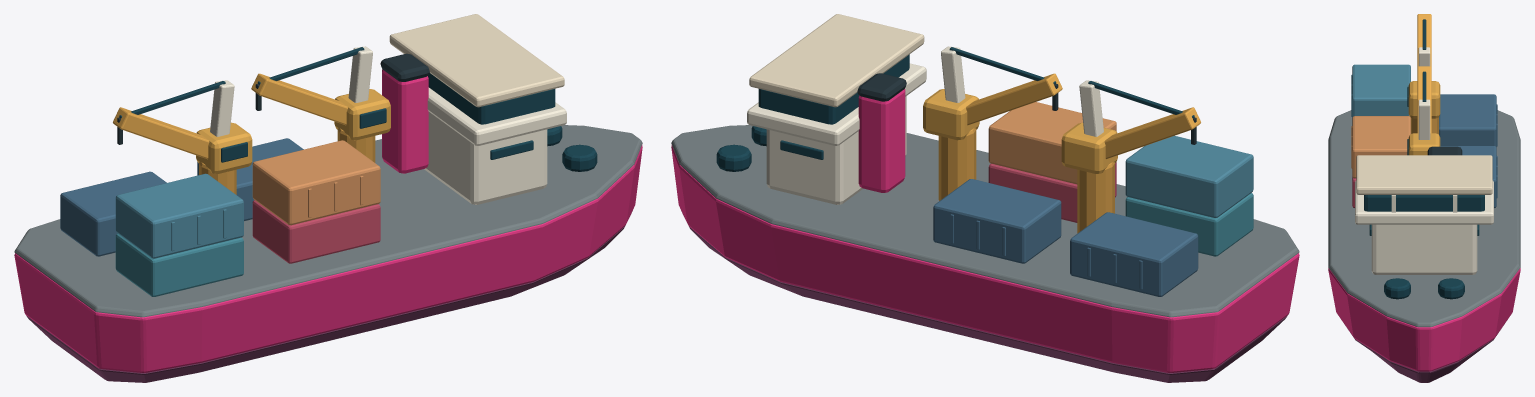
File: one-magenta.glb
3 views of the same model, side by side, from view 1: azimuth 30°, elevation 25°; view 2: azimuth 150°, elevation 25°; view 3: azimuth 270°, elevation 25° (orthographic). The views are drawn at different scales.
Visible parts, largest first — view 1: one-magenta; view 2: one-magenta; view 3: one-magenta.
Boxes of the visible parts, x1,y1,x2,y2 form: one-magenta: (14,14,642,382); one-magenta: (671,14,1299,382); one-magenta: (1328,14,1520,382).
Size of the model in its own units: 3.29 by 1.32 by 1.22.
